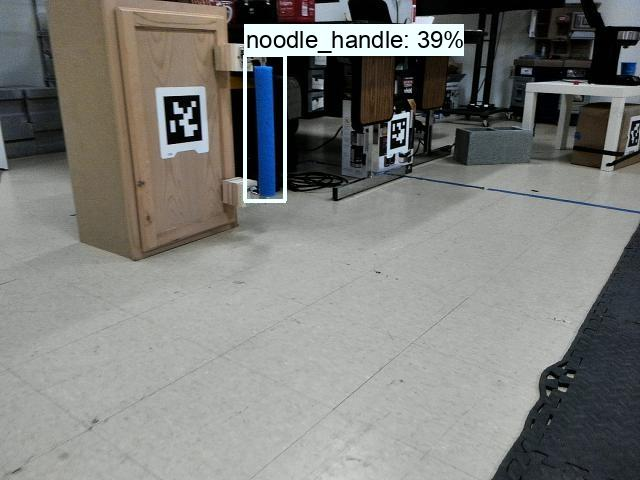noodle_handle: (243, 57, 285, 201)
